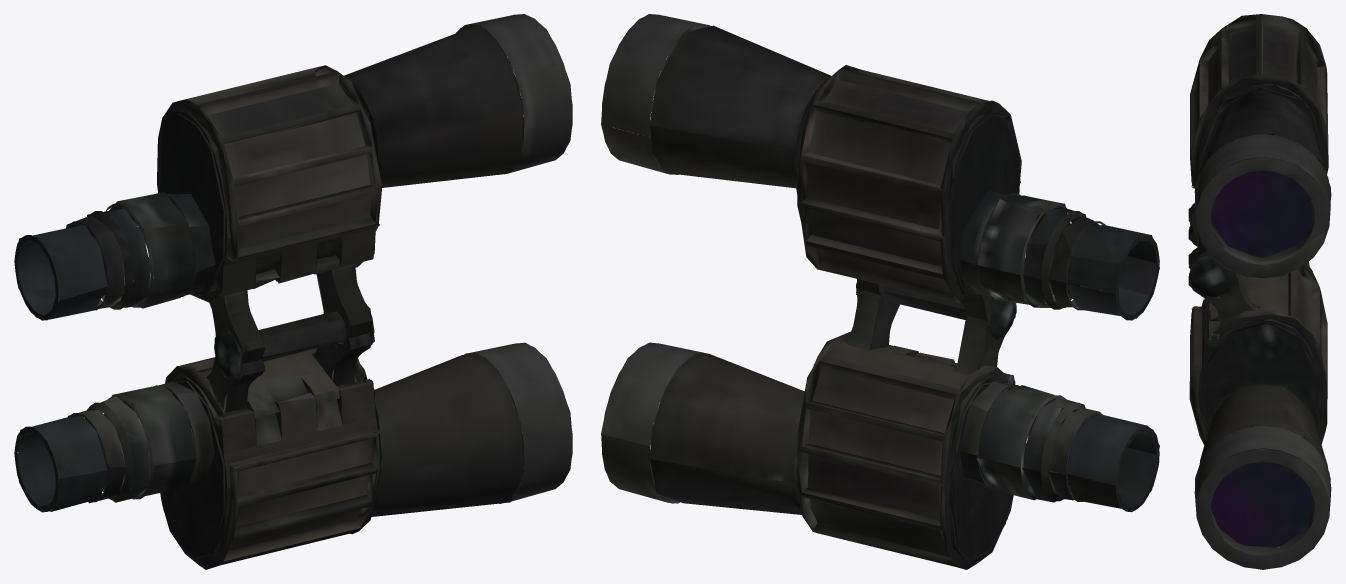
File: binoculars.glb
3 views of the same model, side by side, from view 1: azimuth 30°, elevation 25°; view 2: azimuth 150°, elevation 25°; view 3: azimuth 270°, elevation 25° (orthographic). The views are drawn at different scales.
Visible parts, largest first — view 1: binoculars; view 2: binoculars; view 3: binoculars.
Part boxes in pixels (x1=…): binoculars: x1=14, y1=14, x2=572, y2=569; binoculars: x1=601, y1=14, x2=1159, y2=569; binoculars: x1=1188, y1=14, x2=1331, y2=569.
Size of the model in its own units: 0.1598 by 0.1439 by 0.0447.
Materials: 1 (1 with a texture image).
